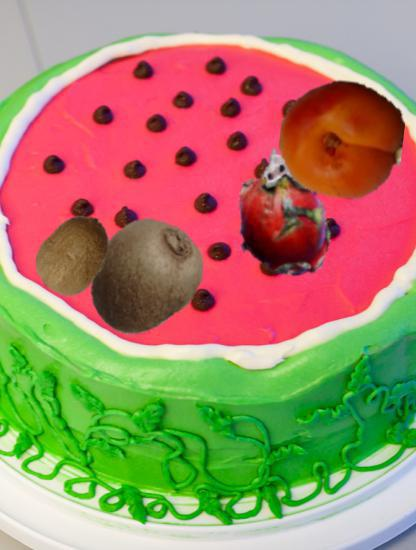Apricot: (280, 77, 404, 201)
Kiwi: (85, 217, 208, 340), (30, 211, 117, 298)
Pitahaya: (215, 148, 349, 282)
